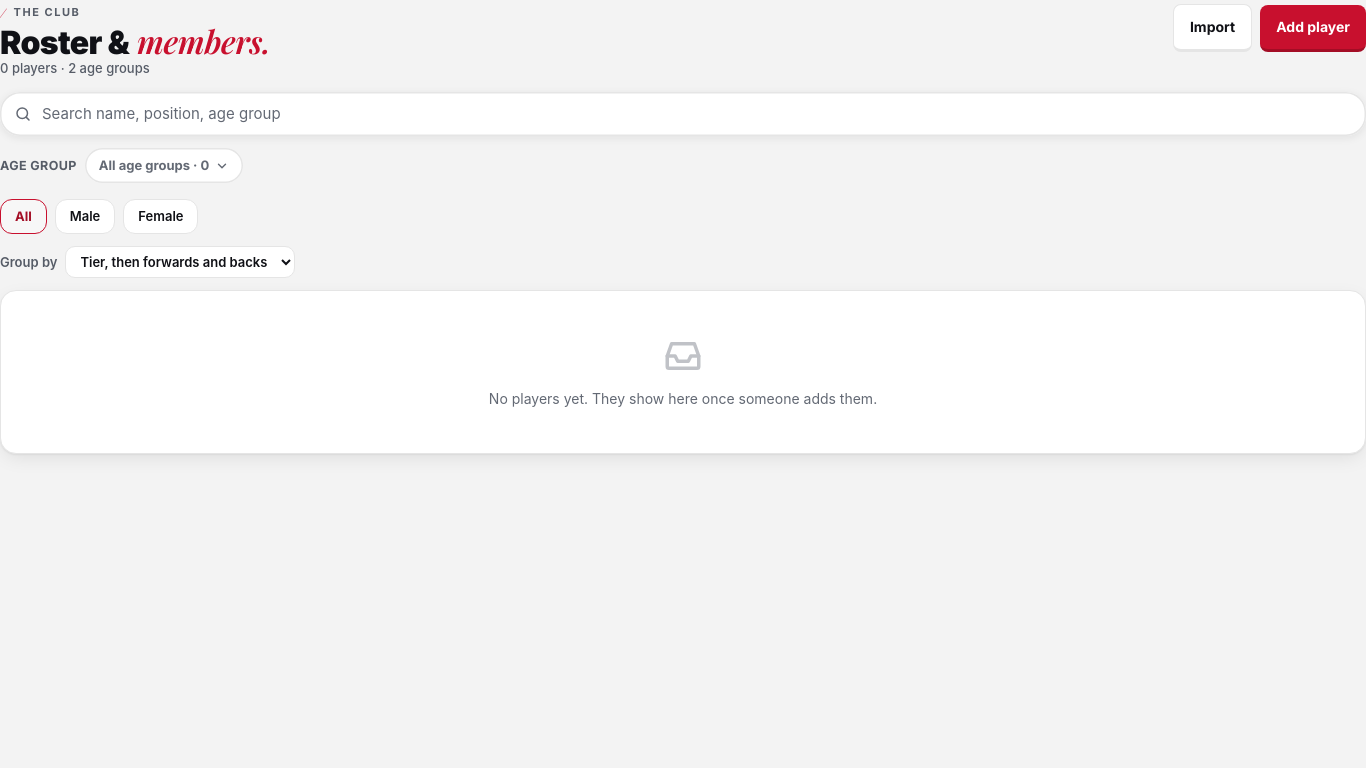
Scenario: Import — writing › keeps the dialog open and reports the refusal, so the paste is not lost
This screenshot has width=1366, height=768.
Click the button "Import". click: (1212, 28)
box: [1173,4,1252,52]
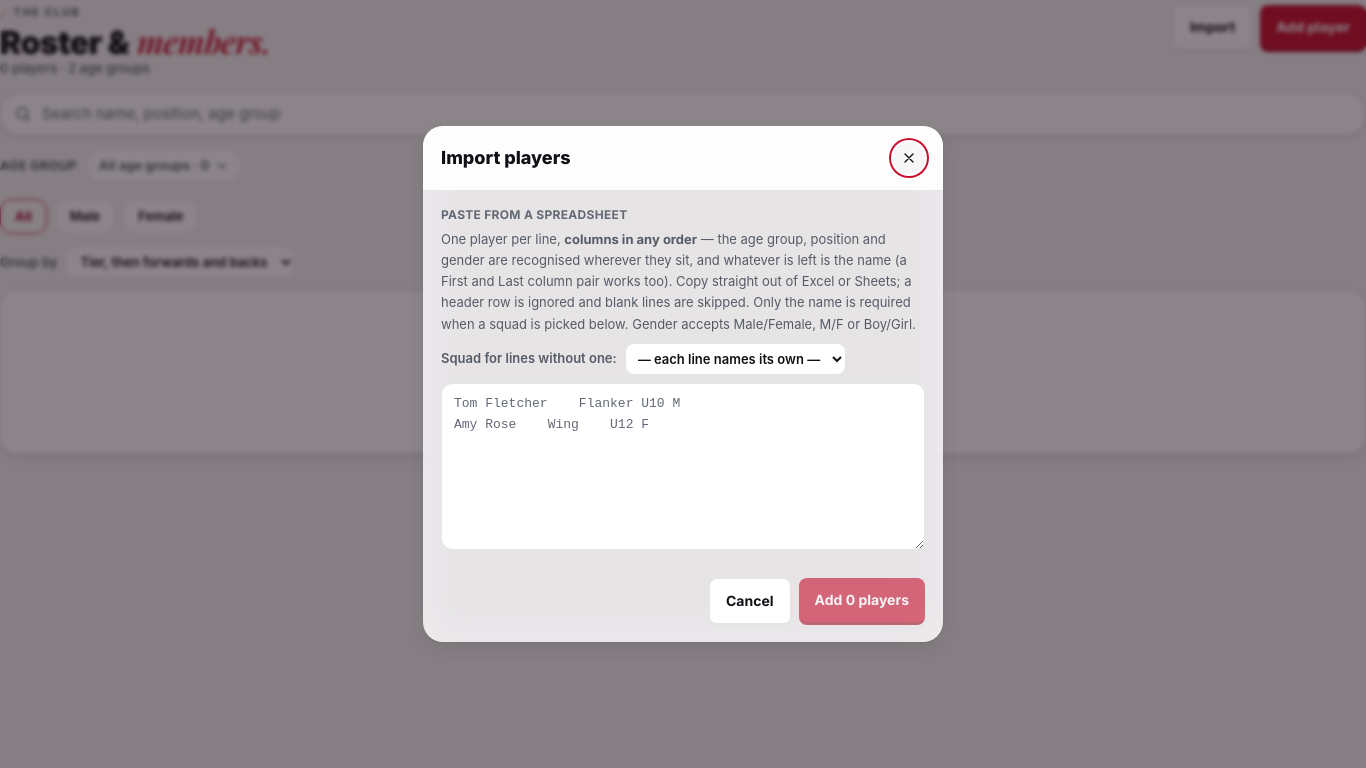
Type "Tom Fletcher,Flanker,U10" into the text box with test id "import-paste". click: (683, 466)
box: [441,383,925,550]
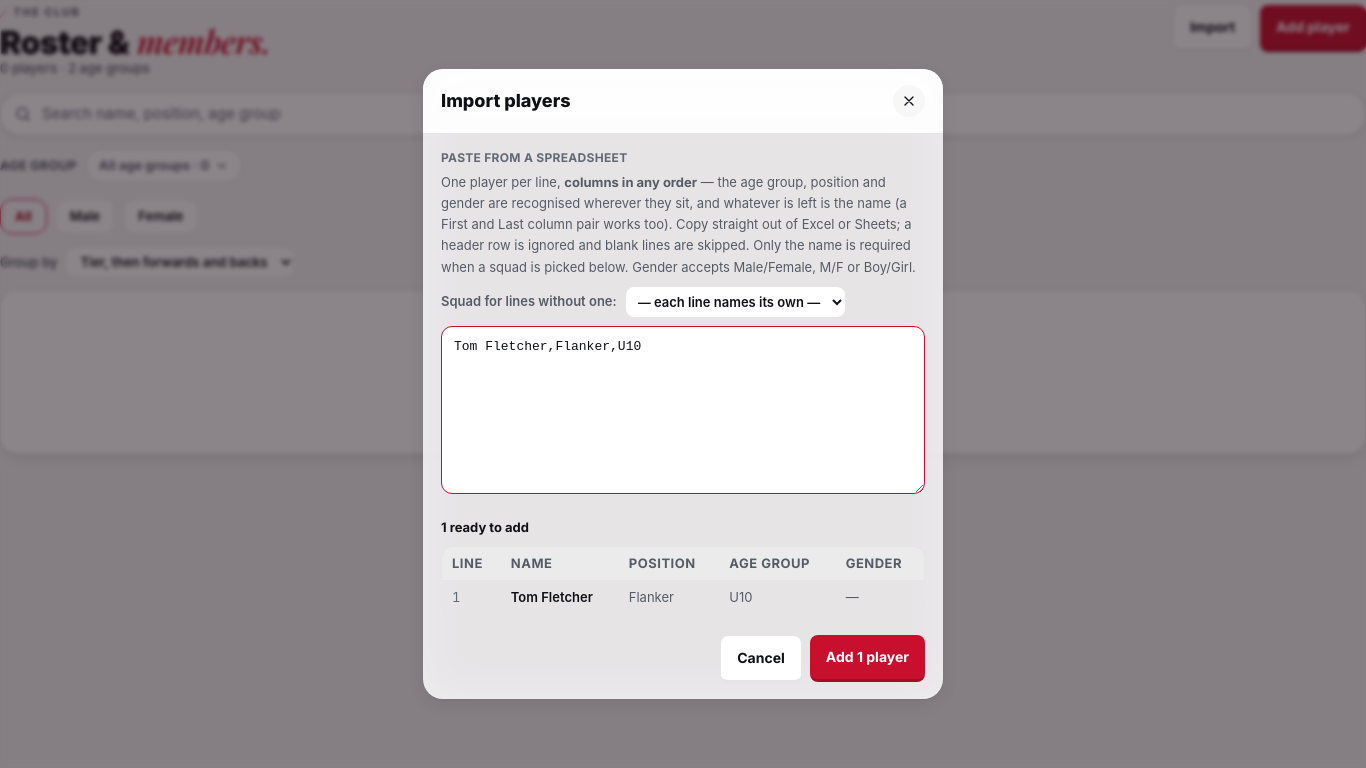
Click the button with test id "import-submit". click: (867, 659)
box: [810,635,925,682]
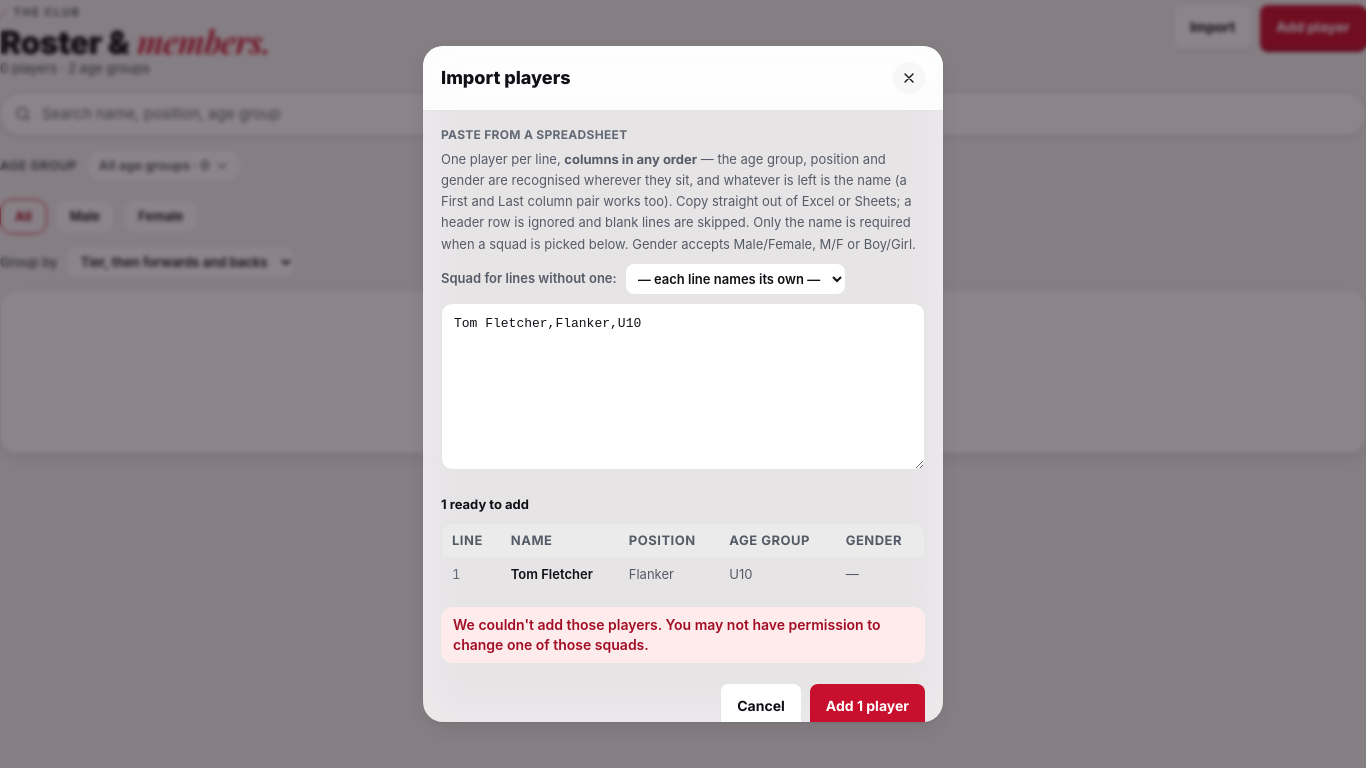
Check: the message shows "may not have permission", box [453,616,880,653]
